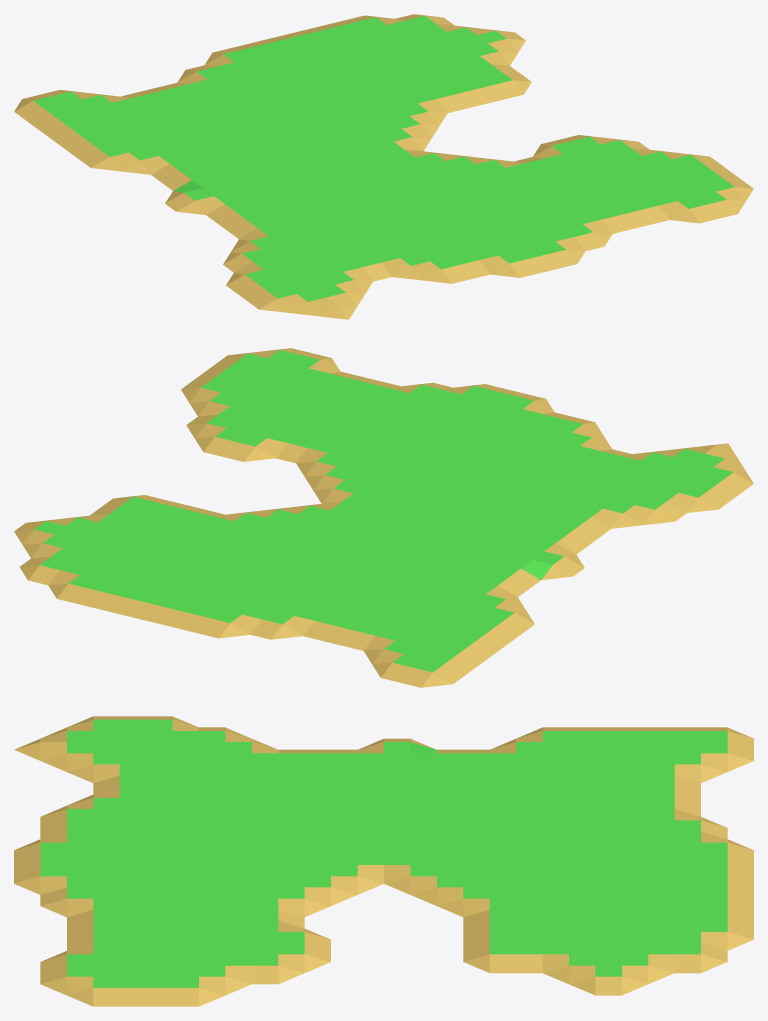
Rendered from Map1.glb.
The picture shows the model from 3 angles, top to bottom: view 1: azimuth 30°, elevation 25°; view 2: azimuth 150°, elevation 25°; view 3: azimuth 270°, elevation 25°; orthographic projection. The views are drawn at different scales.
Visible parts, largest first — view 1: Plane; view 2: Plane; view 3: Plane.
Boxes of the visible parts, left/top/right/bottom form: Plane: left=14, top=14, right=753, bottom=319; Plane: left=14, top=348, right=753, bottom=687; Plane: left=14, top=716, right=753, bottom=1006.
Size of the model in its own units: 81.25 by 0.9996 by 87.5.
